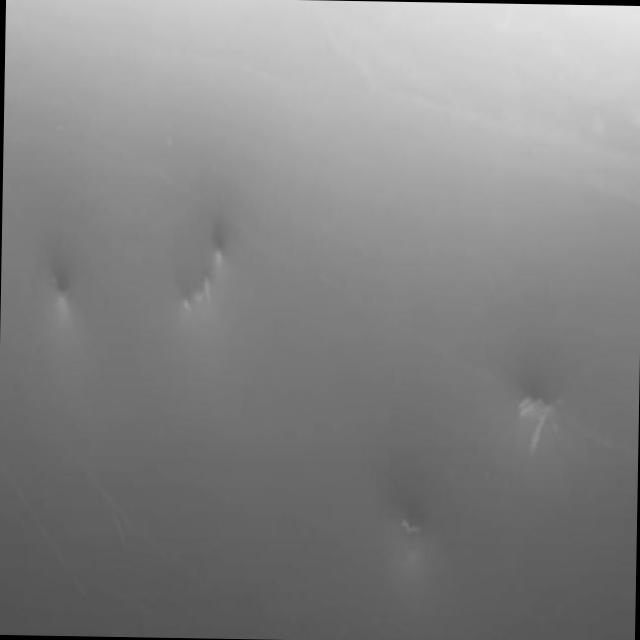dent: (478, 380, 557, 462), (184, 210, 227, 328), (373, 494, 427, 564), (34, 261, 85, 311)
